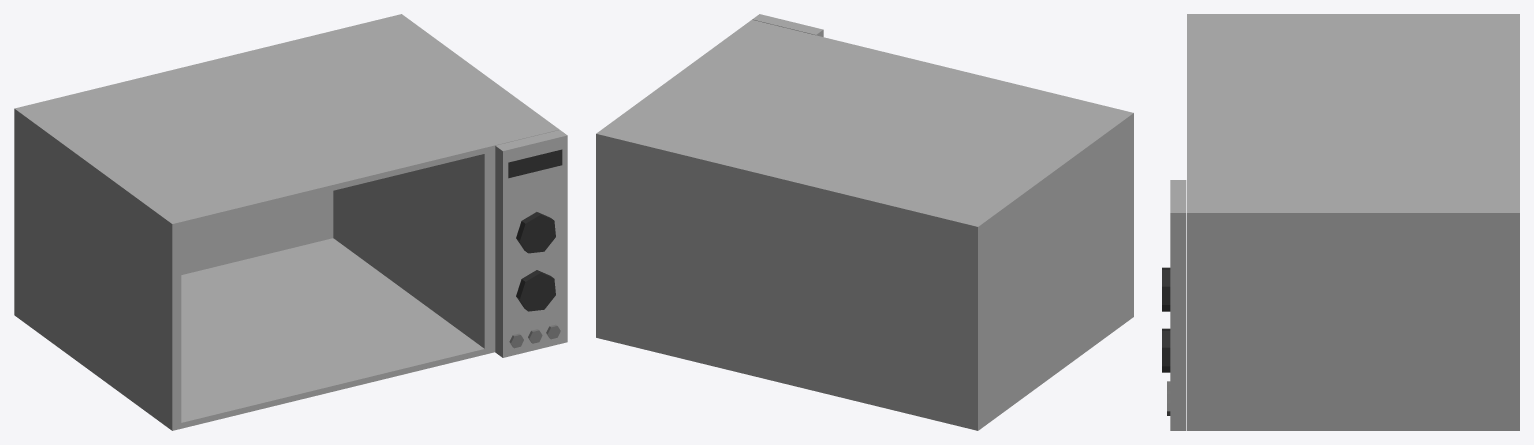
The model's file is Microondas.fbx.
3 views of the same model, side by side, from view 1: azimuth 30°, elevation 25°; view 2: azimuth 150°, elevation 25°; view 3: azimuth 270°, elevation 25° (orthographic). The views are drawn at different scales.
Visible parts, largest first — view 1: Microondas; view 2: Microondas; view 3: Microondas.
Part boxes in pixels (x1=…): Microondas: x1=14, y1=14, x2=567, y2=430; Microondas: x1=596, y1=14, x2=1133, y2=430; Microondas: x1=1162, y1=14, x2=1519, y2=430.
Bounding box in the file's own units: 61.27 × 31.26 × 46.53.
